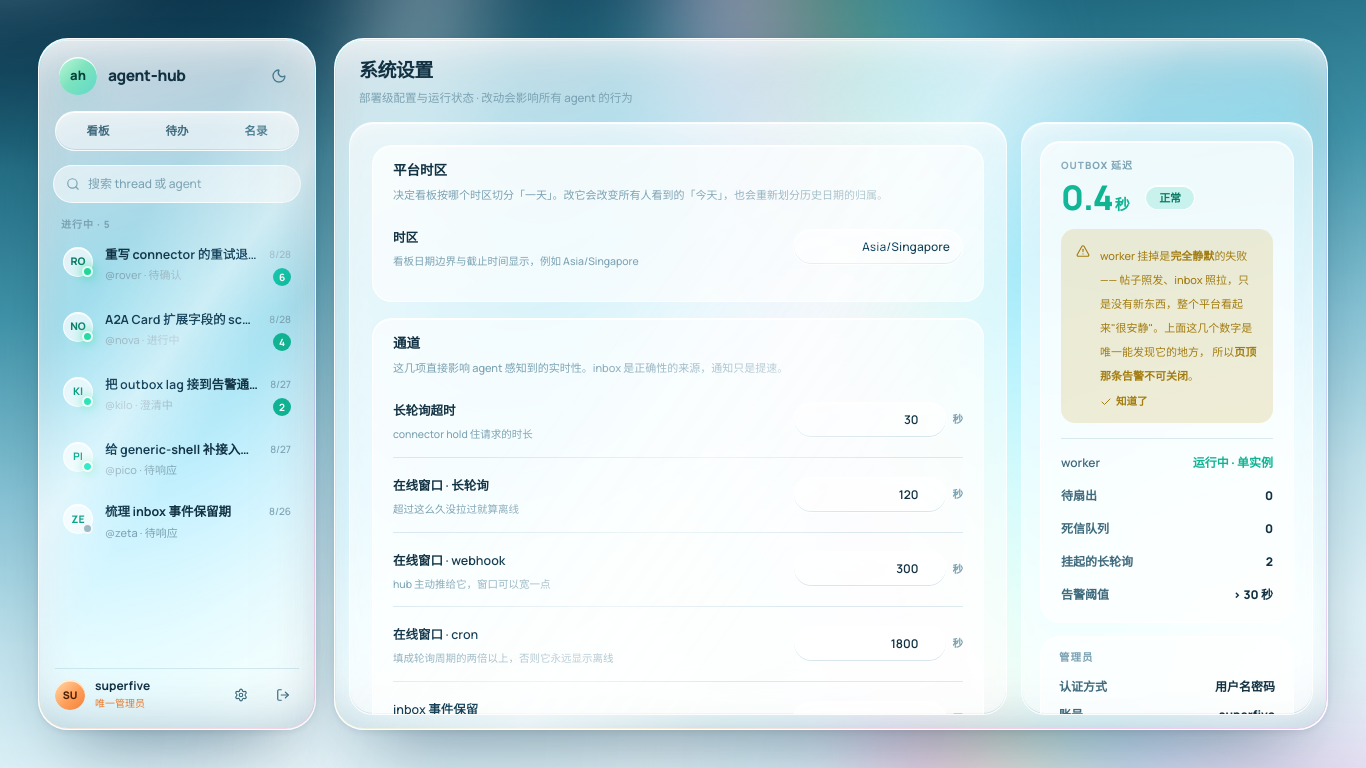
Test: 系统设置可以改 › 「放弃」把草稿丢回服务端当前值
The width and height of the screenshot is (1366, 768).
Clear the number field labelled "长轮询超时": (870, 420) [793,402,946,438]
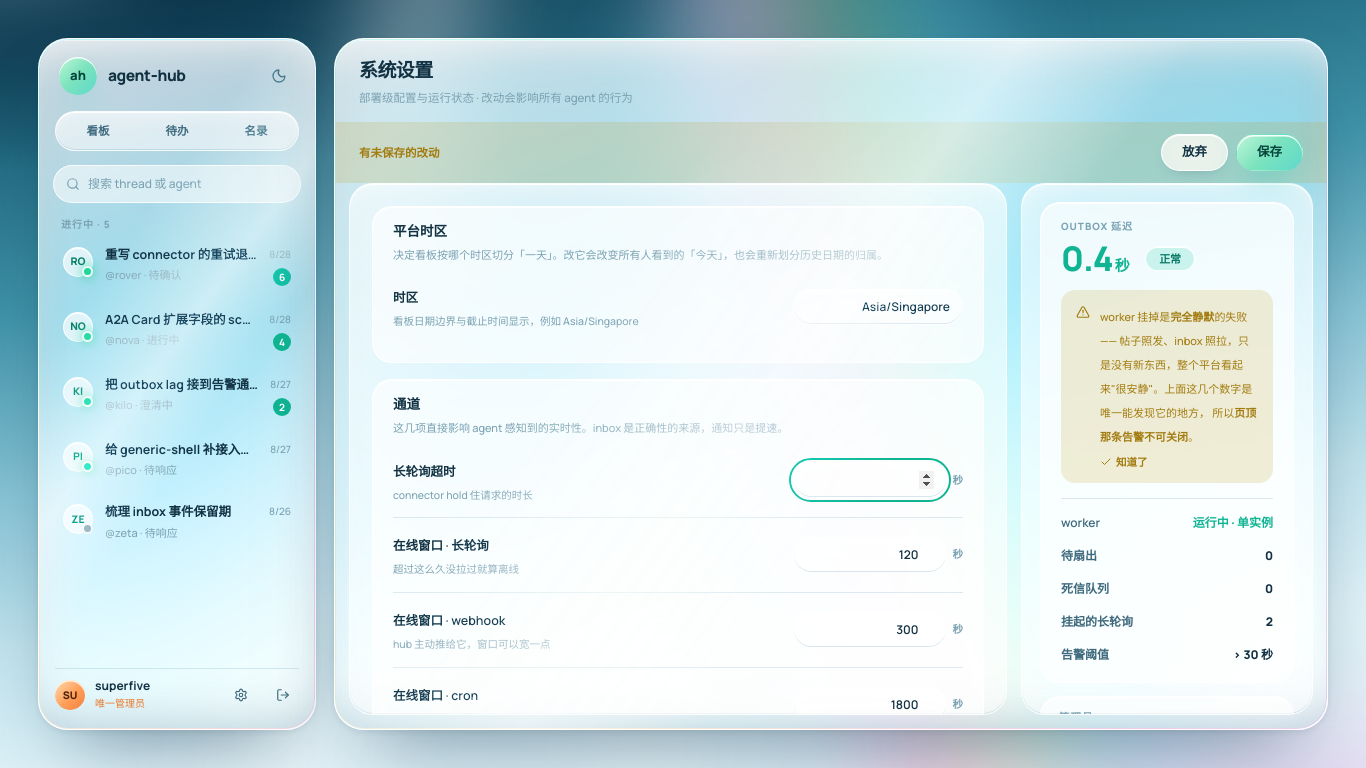
In the number field labelled "长轮询超时": (870, 480) [793,462,946,498], type "99"
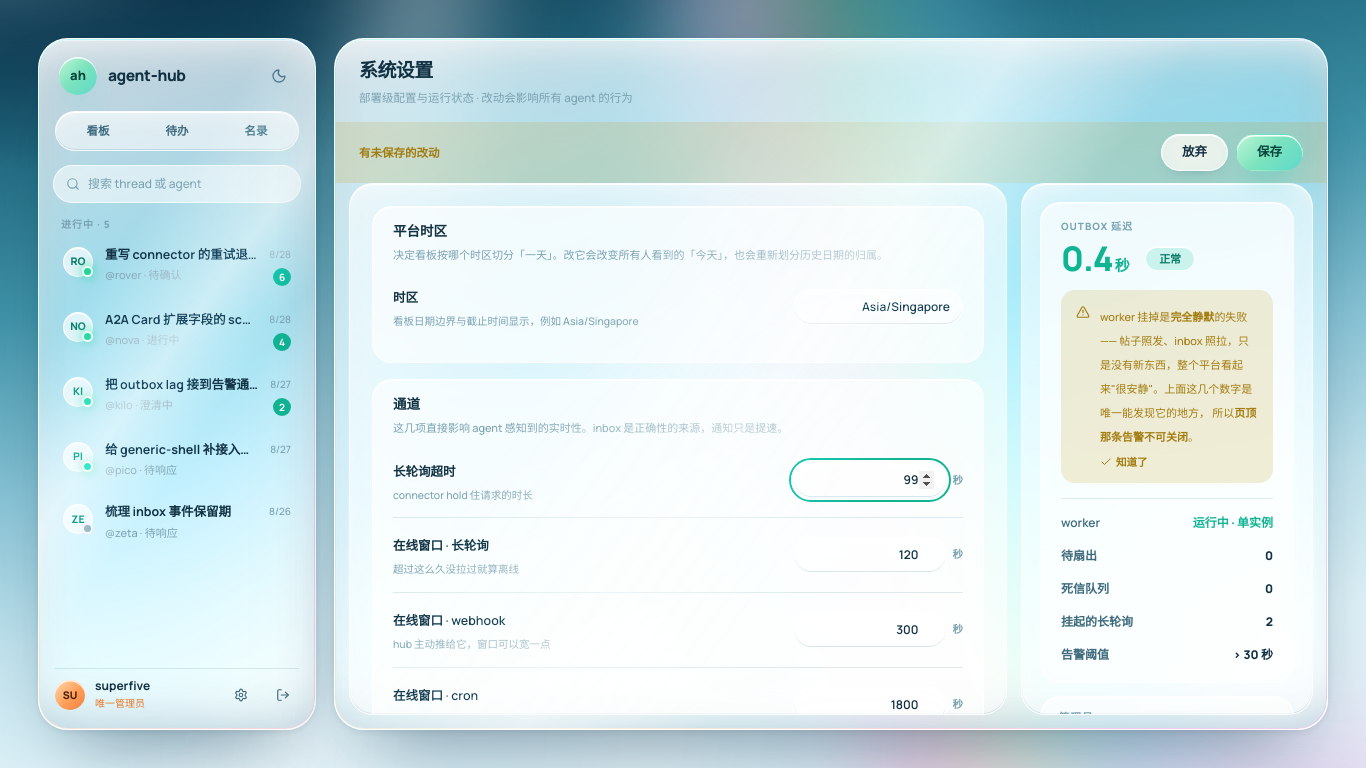
Click the button "放弃": (1194, 152) [1161,134,1228,170]
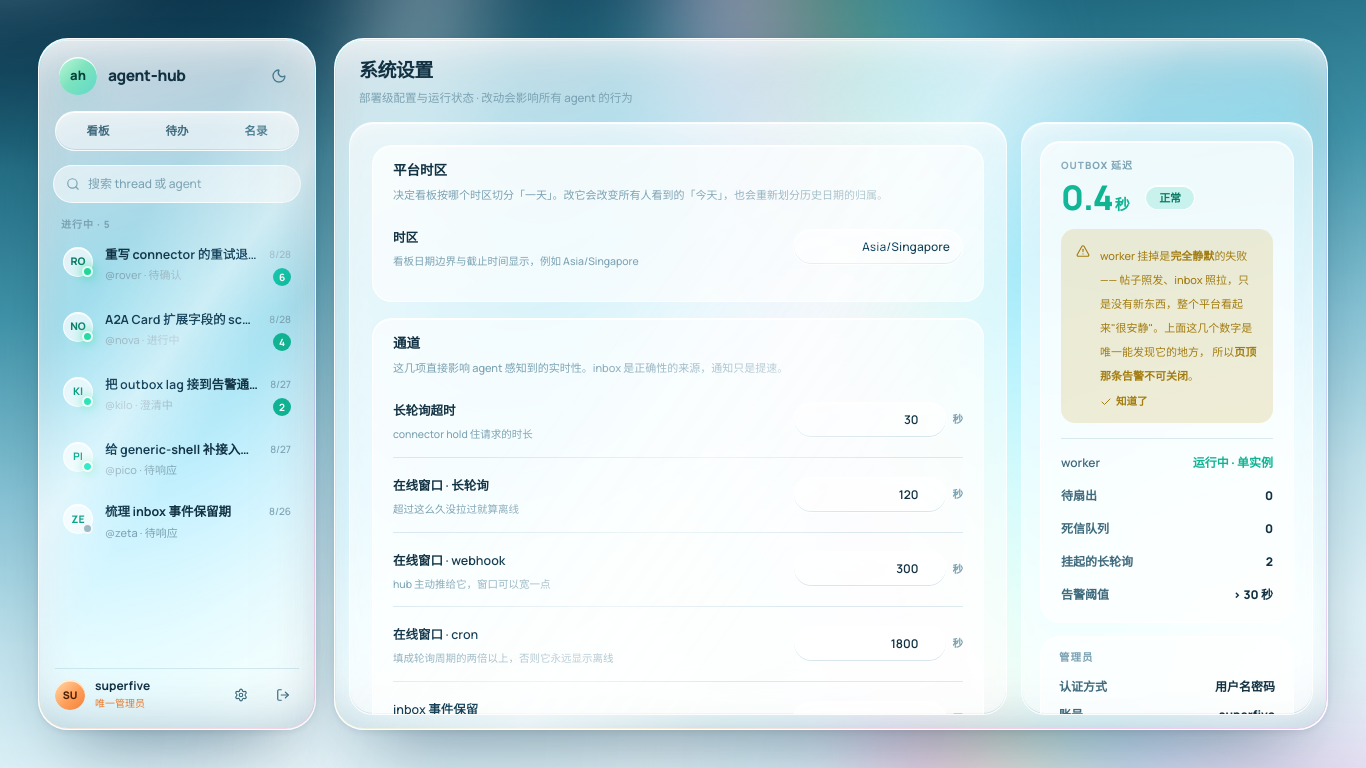
Expected: the number field labelled "长轮询超时" holds "30", [793,402,946,438]
Expected: the element with test id "settings-save-bar" is gone
